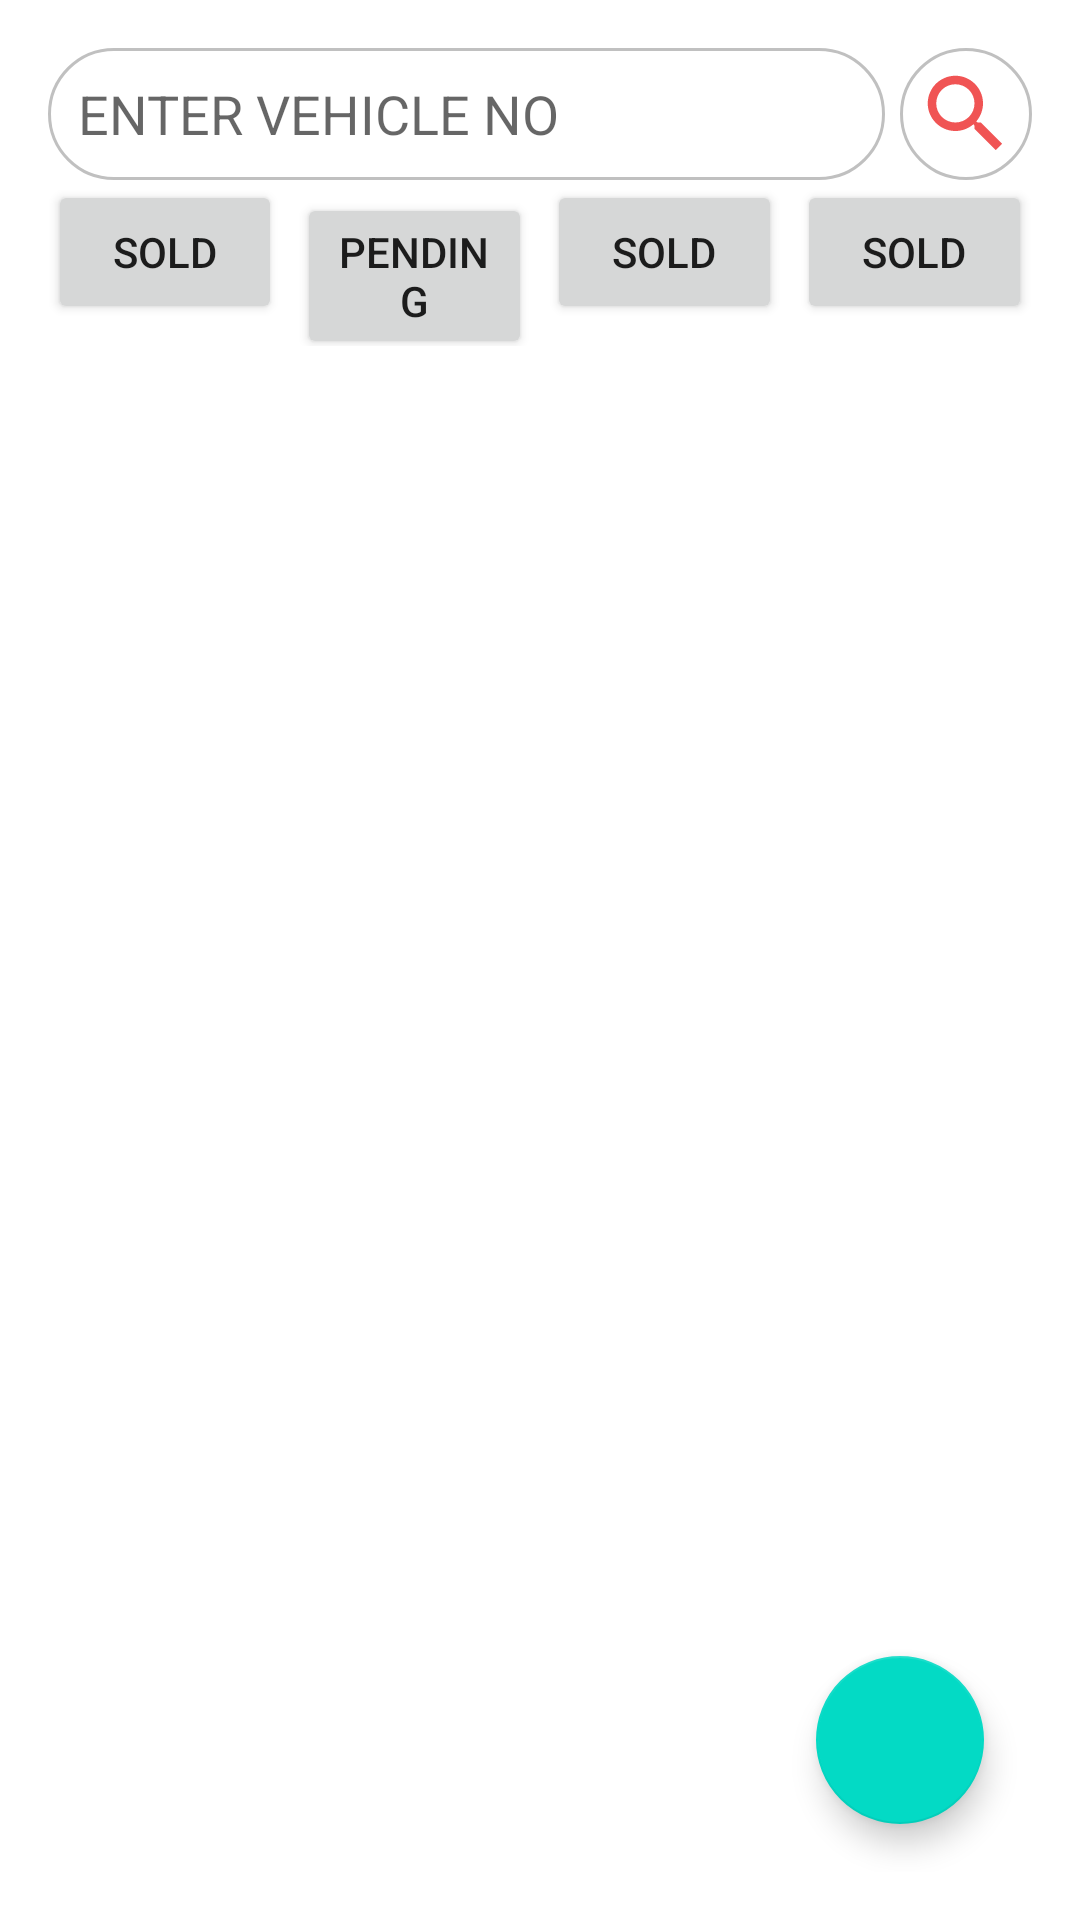

Where to tap for icons on this 1080 × 1920 app screen, as (x=x, y=y):
search: (x=966, y=114)
